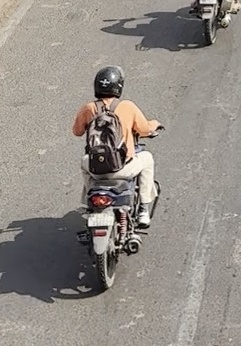BikeWithRider: (68, 61, 166, 296)
Helmet: (88, 62, 131, 101)
